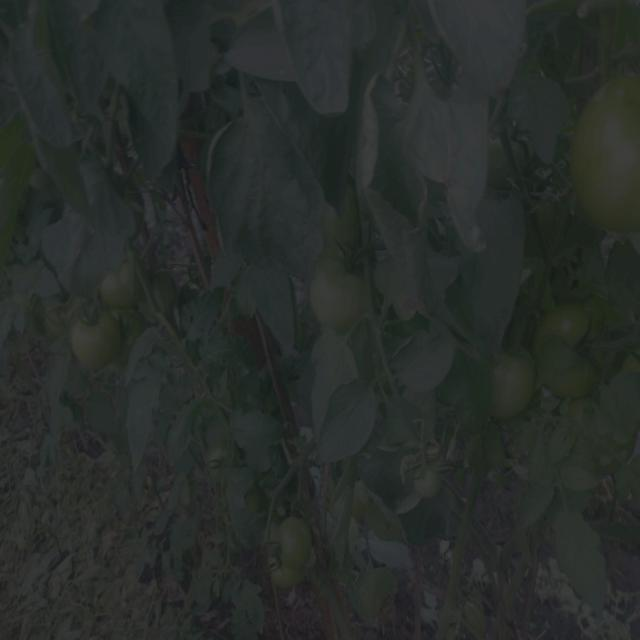tomato: (47, 259, 177, 369), (575, 38, 640, 242), (566, 400, 639, 484), (543, 301, 606, 395), (309, 259, 379, 337), (309, 173, 371, 250), (274, 517, 322, 594), (484, 131, 538, 194), (488, 348, 533, 420), (239, 482, 271, 522), (414, 467, 449, 502), (209, 436, 239, 476)
